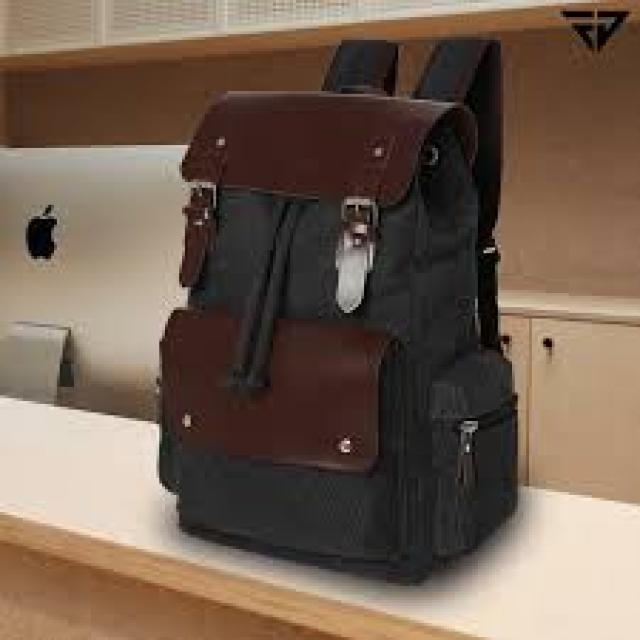backpack: (157, 29, 534, 582)
